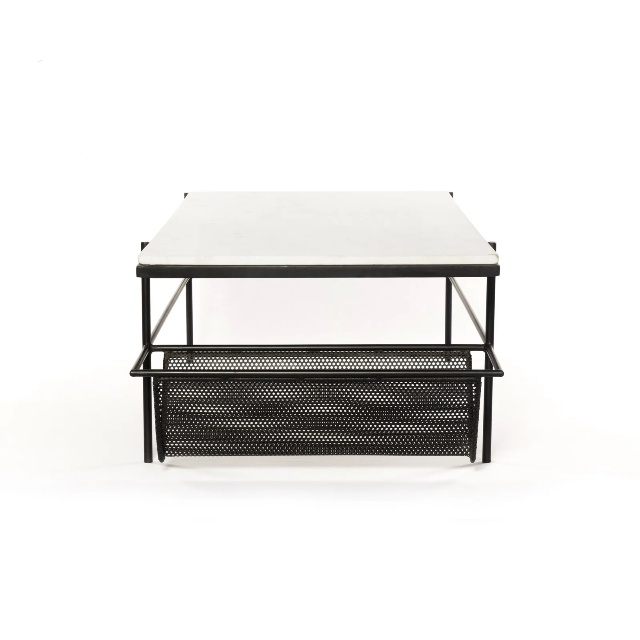obstacle: (130, 191, 502, 462)
